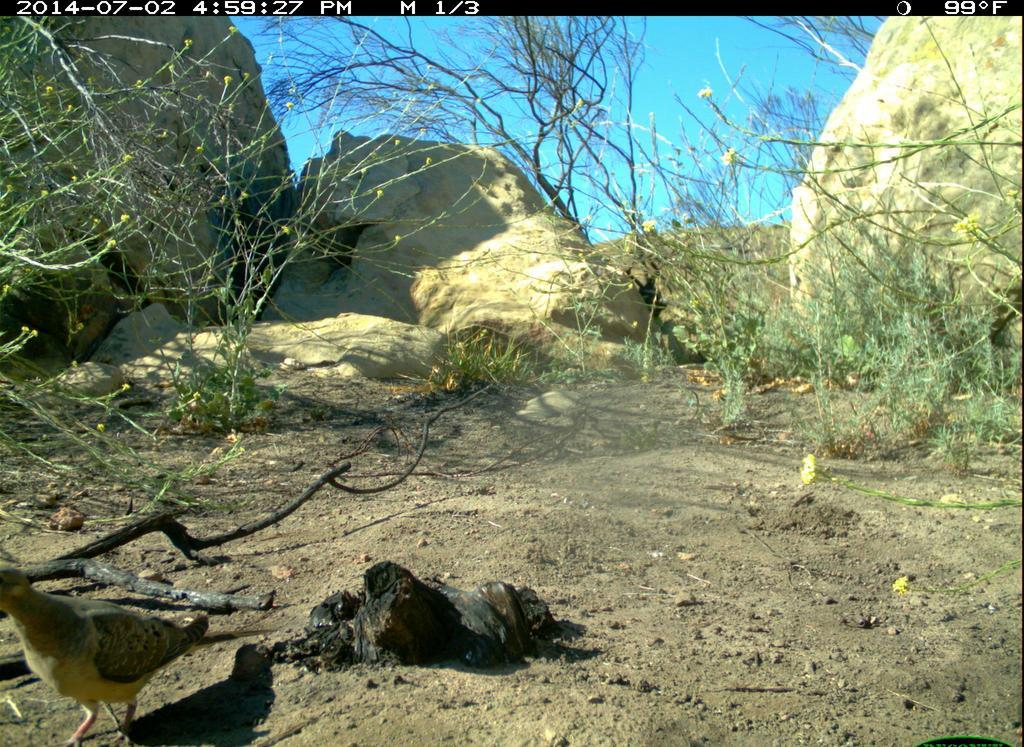bird: (3, 559, 228, 744)
